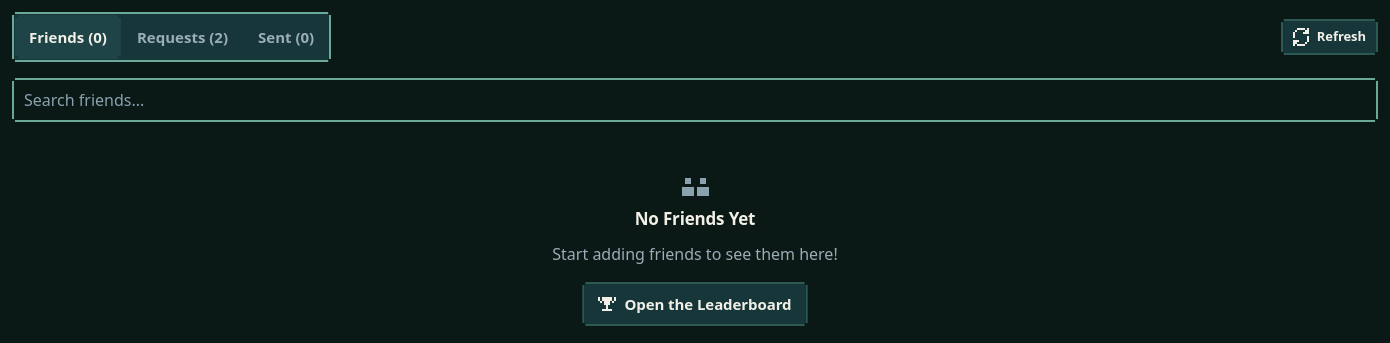
Test: Friends (spec §4.11) › one row's request does not disable the others: the busy state is per row
What coordinates should you click on to do the following:
click the button "Requests (2)"
I would click on:
 (183, 37)
Its box is [123,15,242,59].
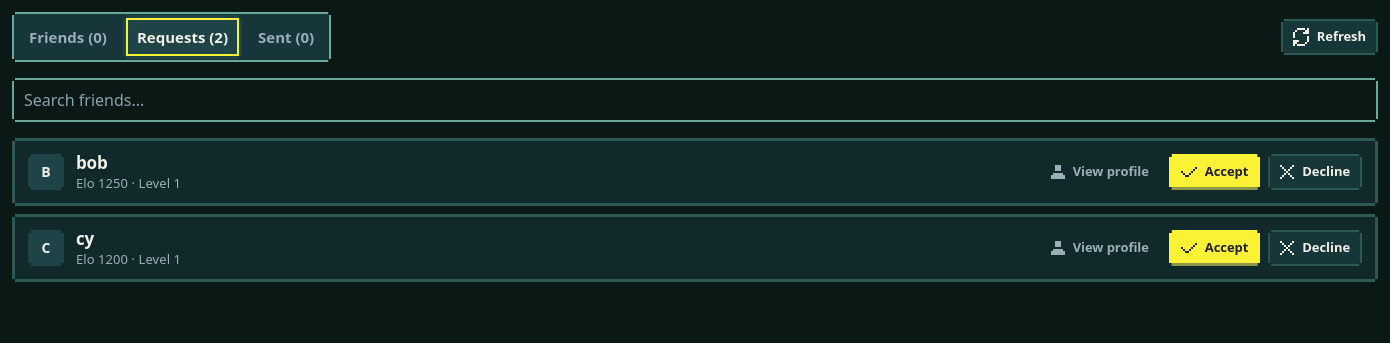
What coordinates should you click on to do the following:
click the button "Accept" in the row of "1250"
I would click on:
 (1215, 172)
Its box is [1169,150,1260,194].
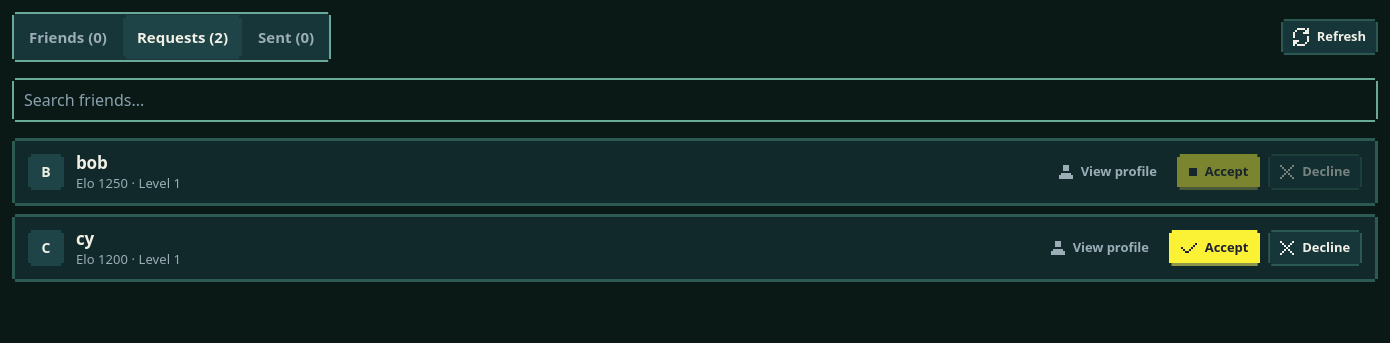
Now the button "Accept" in the row of "1200" is enabled, box [1169,226,1260,270]
Now the button "Decline" in the row of "1200" is enabled, box [1268,226,1362,270]
Now the button "Decline" in the row of "1250" is disabled, box [1268,150,1362,194]
